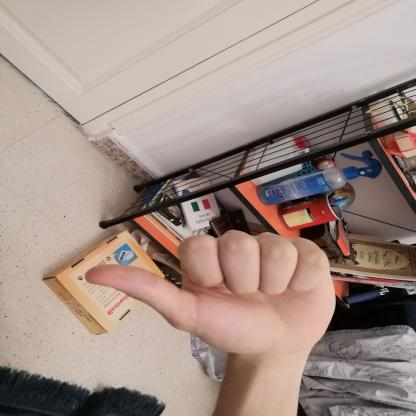DAD: (67, 221, 350, 363)
